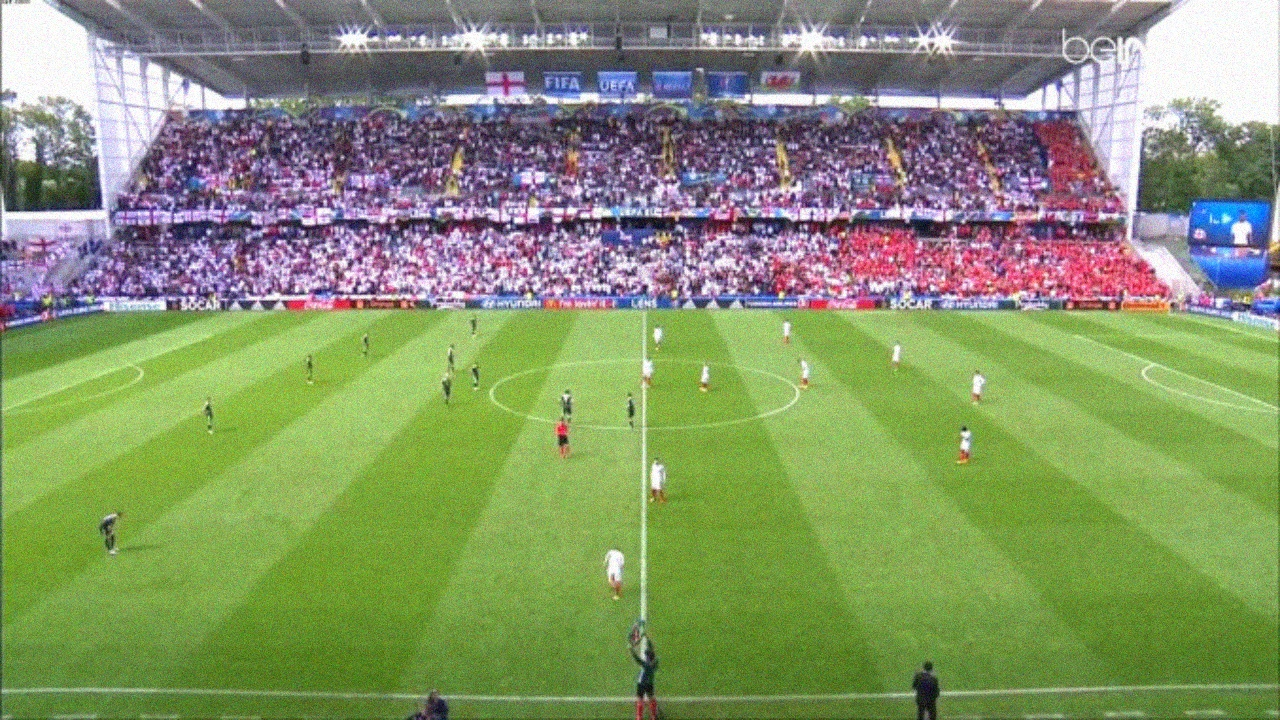ball: (642, 384, 645, 388)
player: (605, 546, 625, 600), (99, 511, 122, 555), (648, 458, 667, 504), (955, 426, 971, 464), (559, 389, 574, 427), (972, 369, 985, 404), (204, 397, 215, 436), (797, 358, 810, 390), (625, 391, 635, 431), (641, 356, 653, 389), (891, 339, 902, 374), (699, 361, 710, 393), (441, 373, 451, 408), (304, 353, 314, 387), (471, 361, 481, 393), (652, 324, 663, 353), (359, 330, 370, 358), (447, 345, 455, 375), (783, 319, 791, 345), (470, 314, 478, 337)
referee: (555, 418, 570, 462)
